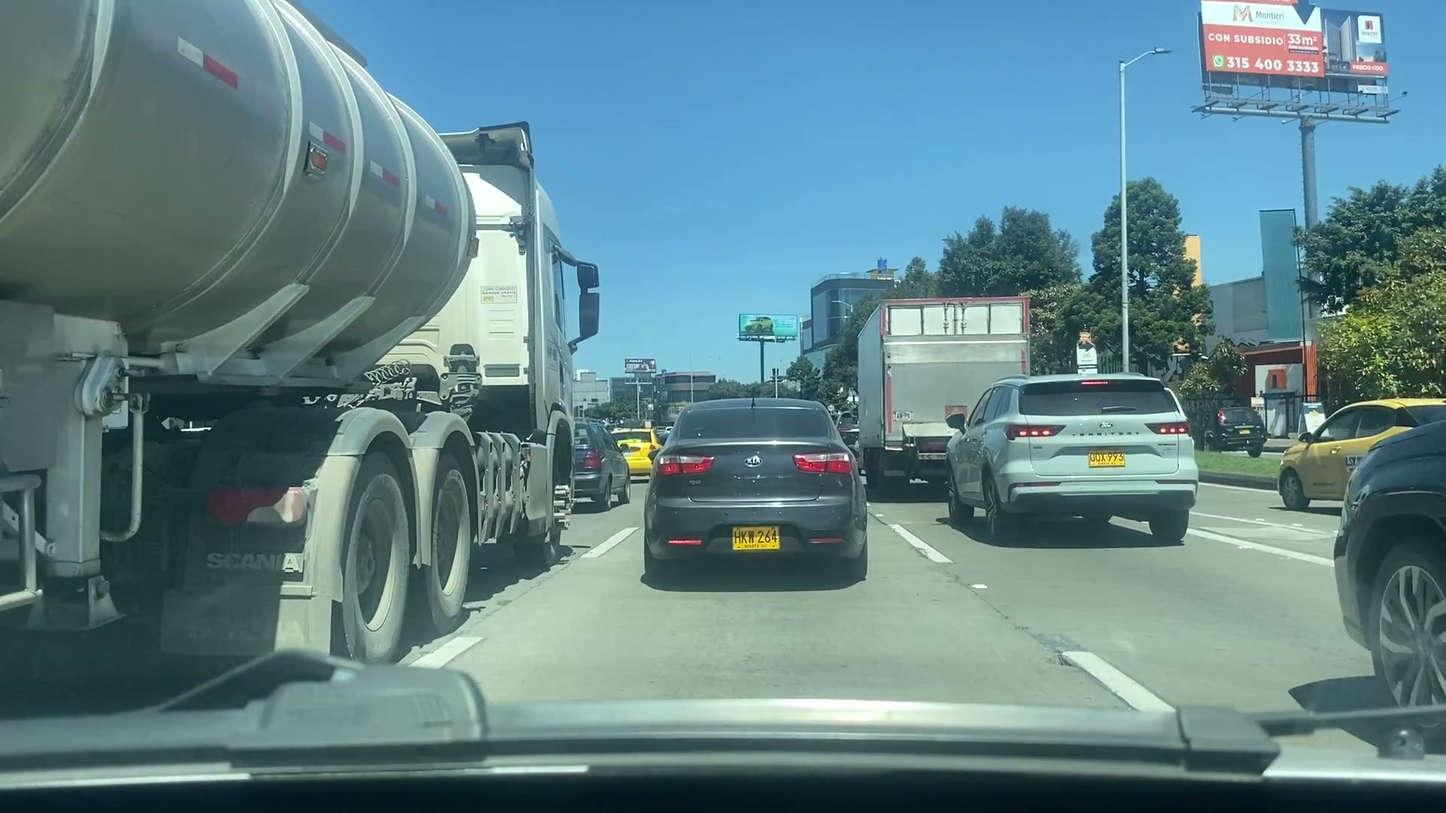car: (641, 394, 869, 582), (946, 374, 1200, 540), (1333, 413, 1446, 728), (1277, 393, 1446, 514), (567, 417, 634, 512), (1196, 408, 1268, 456), (605, 425, 661, 481)
truck: (0, 0, 610, 672), (862, 293, 1031, 486)
